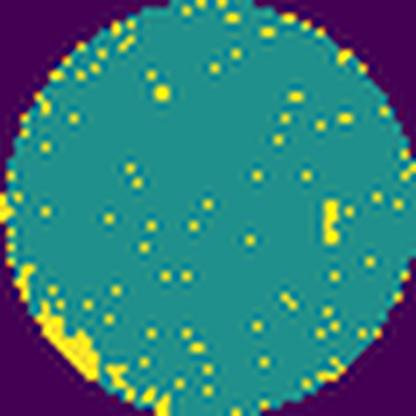Edge-Loc: (34, 296, 102, 383)
